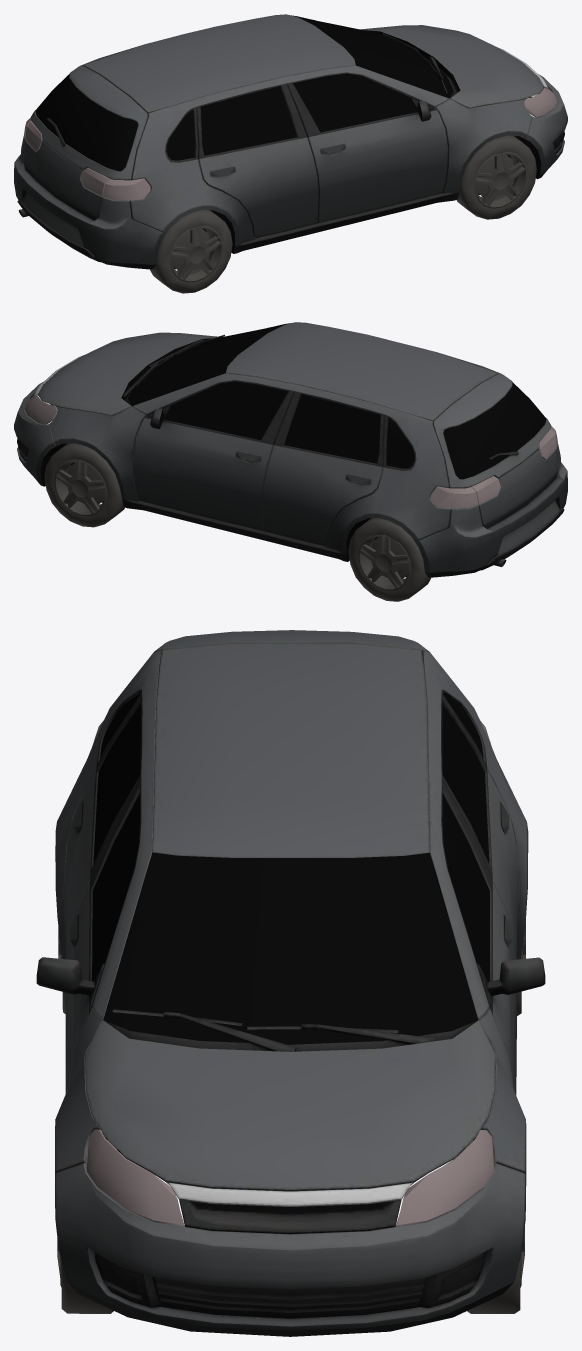
Rendered from pc-hatchback-grey.lod0.glb.
3 views of the same model, one above another, from view 1: azimuth 30°, elevation 25°; view 2: azimuth 150°, elevation 25°; view 3: azimuth 270°, elevation 25° (orthographic). The views are drawn at different scales.
Visible parts, largest first — view 1: Hatchback Body_Body_0, Hatchback Body_Glass_0; view 2: Hatchback Body_Body_0, Hatchback Body_Glass_0; view 3: Hatchback Body_Body_0, Hatchback Body_Glass_0.
Part boxes in pixels (<box>): Hatchback Body_Body_0: <box>14,14,567,269</box>; Hatchback Body_Glass_0: <box>24,16,557,293</box>; Hatchback Body_Body_0: <box>14,322,567,577</box>; Hatchback Body_Glass_0: <box>24,324,557,601</box>; Hatchback Body_Body_0: <box>36,630,545,1336</box>; Hatchback Body_Glass_0: <box>57,694,525,1313</box>.
Size of the model in its own units: 3.95 by 1.35 by 1.74.
Materials: 2 (1 with a texture image).
